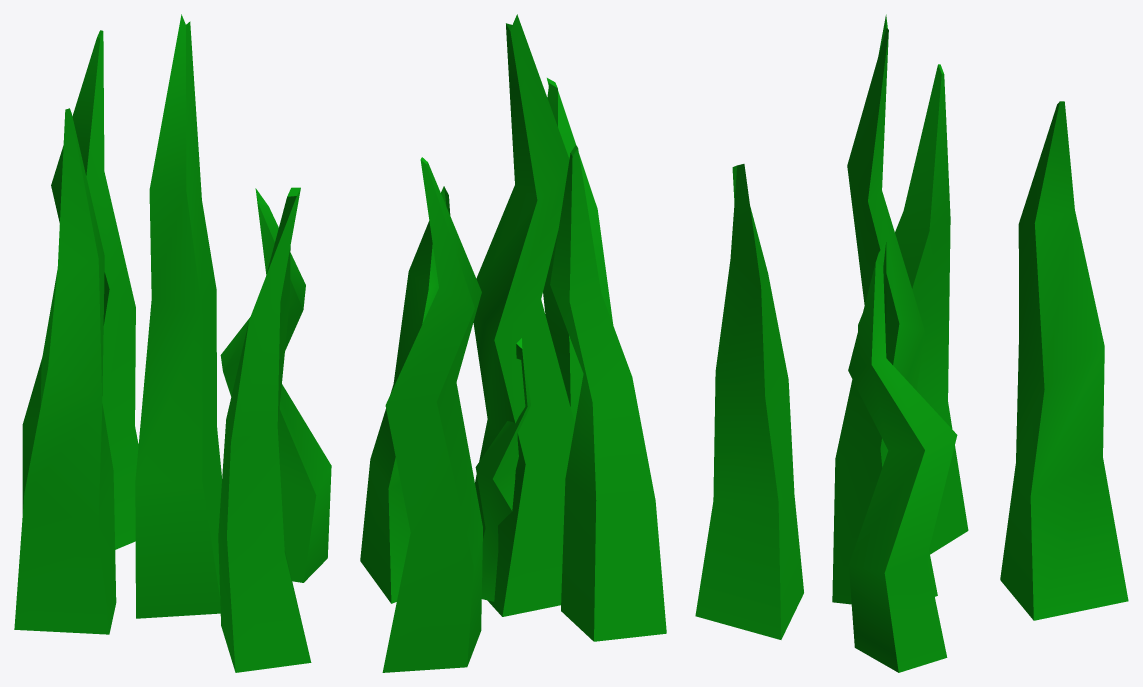
Rendered from herbe_1.FBX.
3 renders of one model, left to right at view 1: azimuth 30°, elevation 25°; view 2: azimuth 150°, elevation 25°; view 3: azimuth 270°, elevation 25°, orthographic.
Visible parts, largest first — view 1: Box036; view 2: Box036; view 3: Box036.
Boxes of the visible parts, box(x1,y1,x2,y2) form: Box036: box(14, 14, 331, 672); Box036: box(360, 14, 666, 672); Box036: box(695, 14, 1128, 672).
Bounding box in the file's own units: 0.1593 × 0.2919 × 0.1921.
